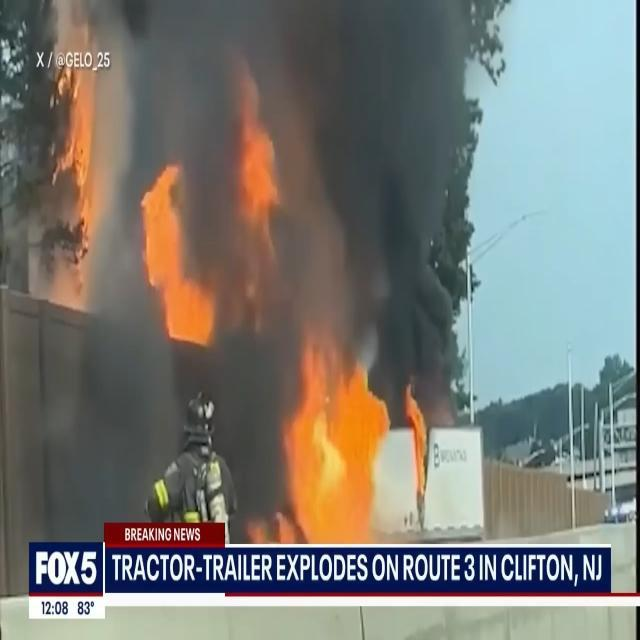fire: (276, 360, 400, 542), (130, 156, 228, 336), (58, 66, 130, 259), (243, 86, 283, 216)
